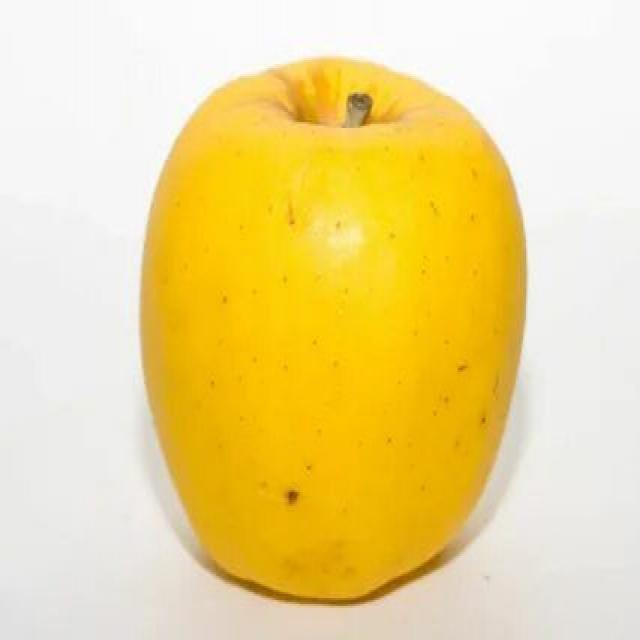Fresh Apple: (150, 77, 505, 595)
